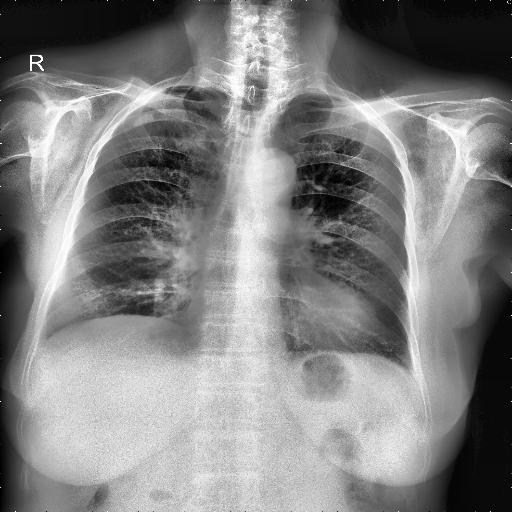0- Aortic enlargement: (246, 141, 302, 202), (254, 147, 296, 188)
11- Pleural thickening: (167, 84, 216, 97)
13- Pulmonary fibrosis: (202, 133, 226, 153)
3- Cardiomegaly: (184, 285, 394, 360), (186, 280, 385, 353), (188, 304, 384, 360)
9- Other lesion: (134, 111, 156, 127)
